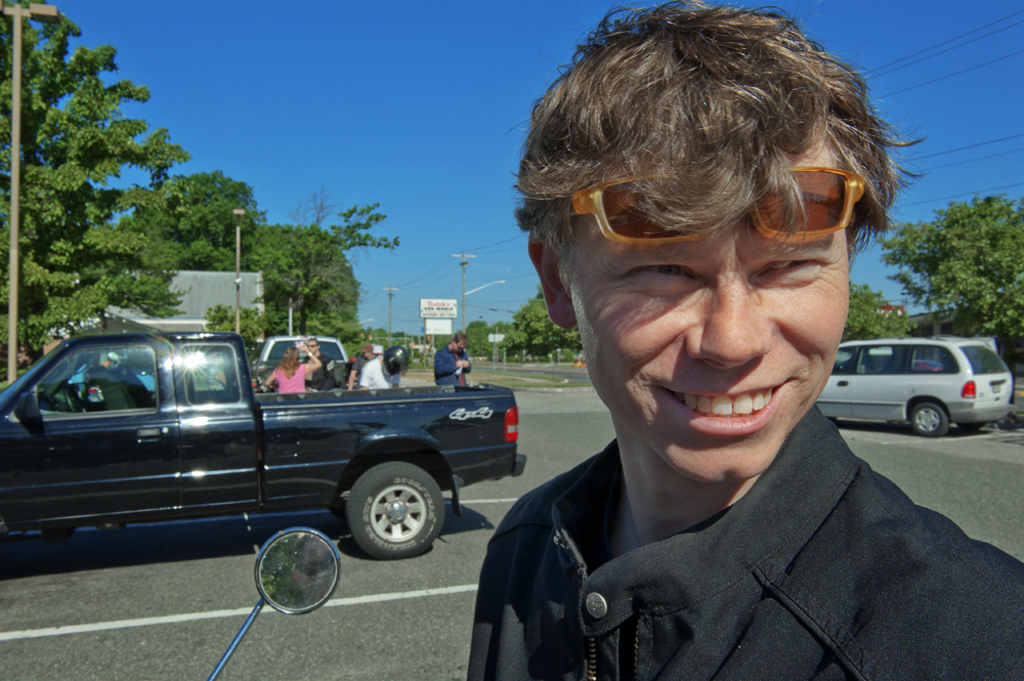Car: (817, 335, 1013, 436), (251, 334, 350, 378)
